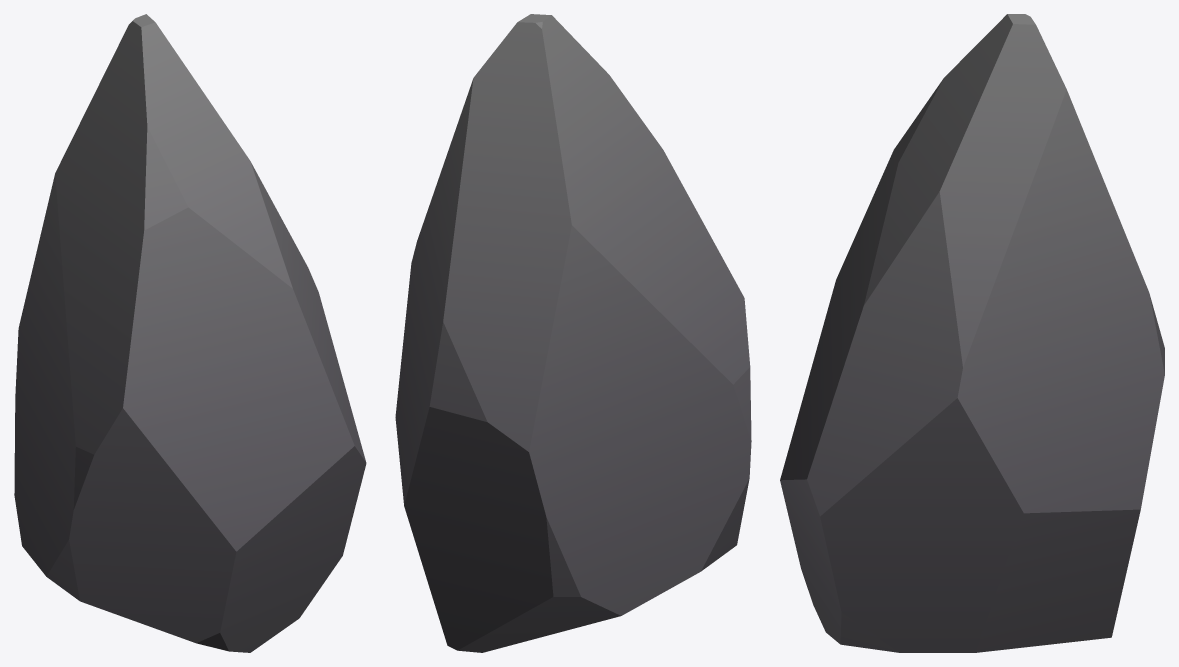
The model's file is Rock_06.fbx.
3 renders of one model, left to right at view 1: azimuth 30°, elevation 25°; view 2: azimuth 150°, elevation 25°; view 3: azimuth 270°, elevation 25°, orthographic. The views are drawn at different scales.
Parts seen in each view (by area): view 1: Rock_06_LOD0; view 2: Rock_06_LOD0; view 3: Rock_06_LOD0.
Part boxes in pixels (left/top/right/bottom): Rock_06_LOD0: left=14, top=14, right=366, bottom=652; Rock_06_LOD0: left=395, top=14, right=751, bottom=652; Rock_06_LOD0: left=780, top=14, right=1164, bottom=652.
Size of what is drawn, in the model's own units: 0.5705 by 1.1 by 0.6332.
